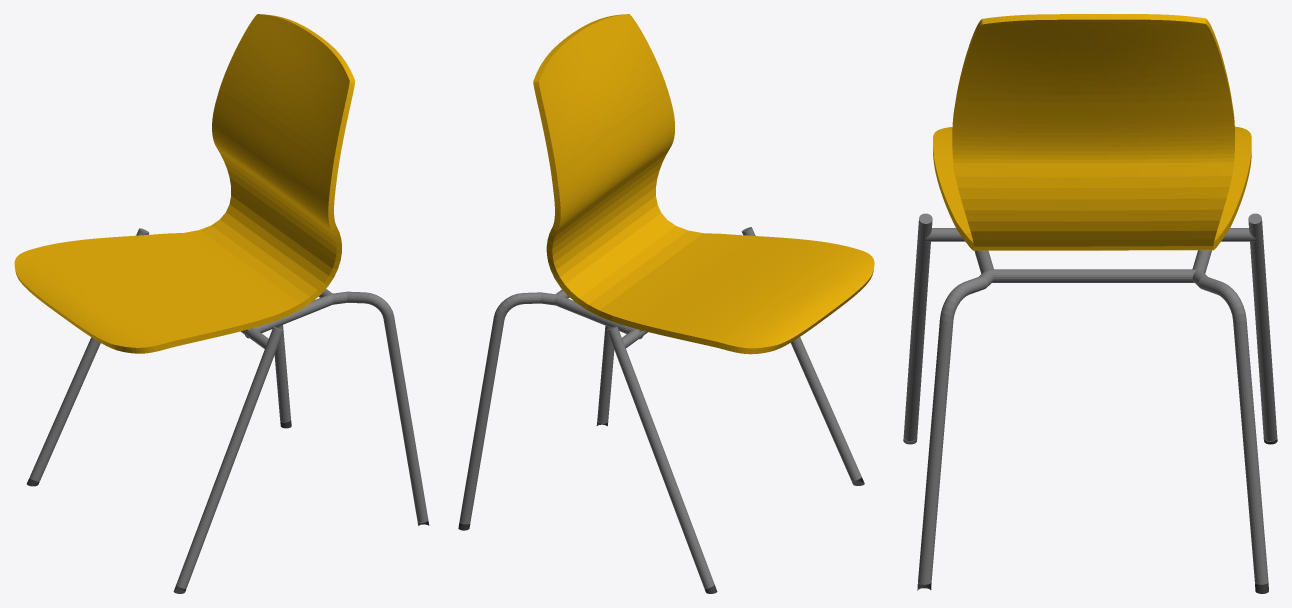
File: chair1.fbx
The picture shows the model from 3 angles, left to right: view 1: azimuth 30°, elevation 25°; view 2: azimuth 150°, elevation 25°; view 3: azimuth 270°, elevation 25°; orthographic projection. The views are drawn at different scales.
Parts seen in each view (by area): view 1: Line009, Line011; view 2: Line009, Line011; view 3: Line009, Line011.
Part boxes in pixels (x1,y1,x2,y2): Line009: [14, 14, 355, 353]; Line011: [27, 228, 429, 593]; Line009: [533, 14, 874, 354]; Line011: [458, 227, 864, 593]; Line009: [933, 14, 1251, 250]; Line011: [903, 213, 1277, 593].
Size of the model in its own units: 2.35 by 3.38 by 2.08.
